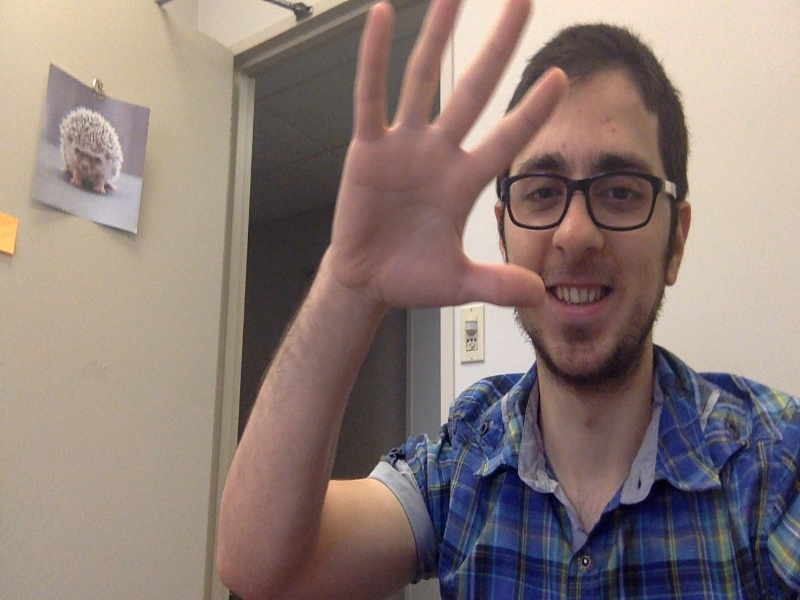5-hand: (332, 1, 551, 311)
